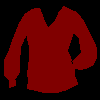felpa: (4, 6, 96, 93)
